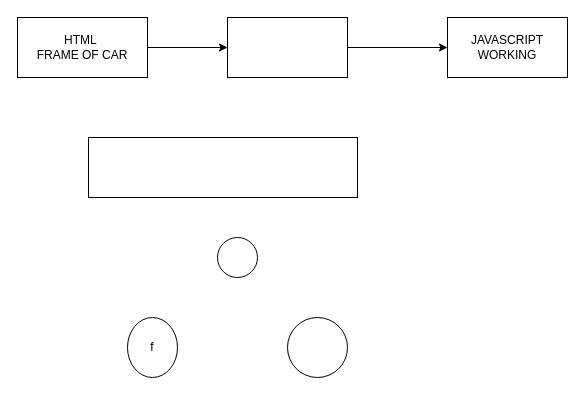
Some shapes in this 585 by 395 pixel diagram are drawn without their labels. The shapes that lost their labels are listed below. From the top down, each one's centre as x and y in pixels, then its label:
At point (287, 47): "CSS STYLING PART".
At point (223, 167): "<P> ANKUSH AND JUGAL </P>".
